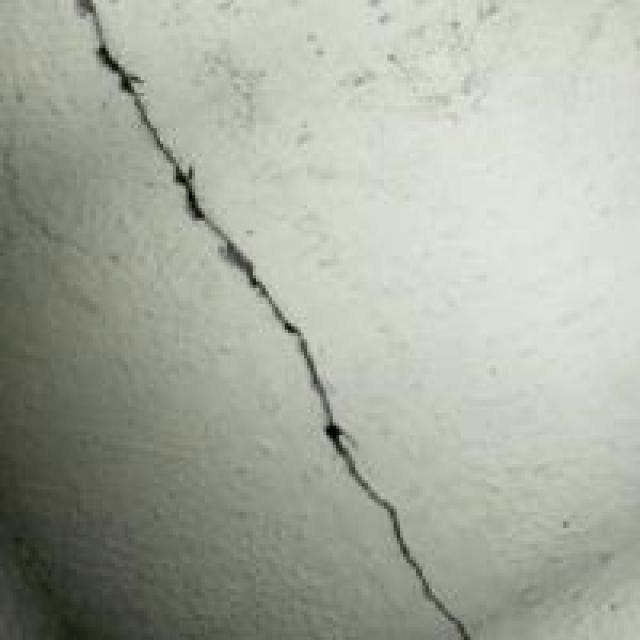Crack: (60, 0, 474, 640)
